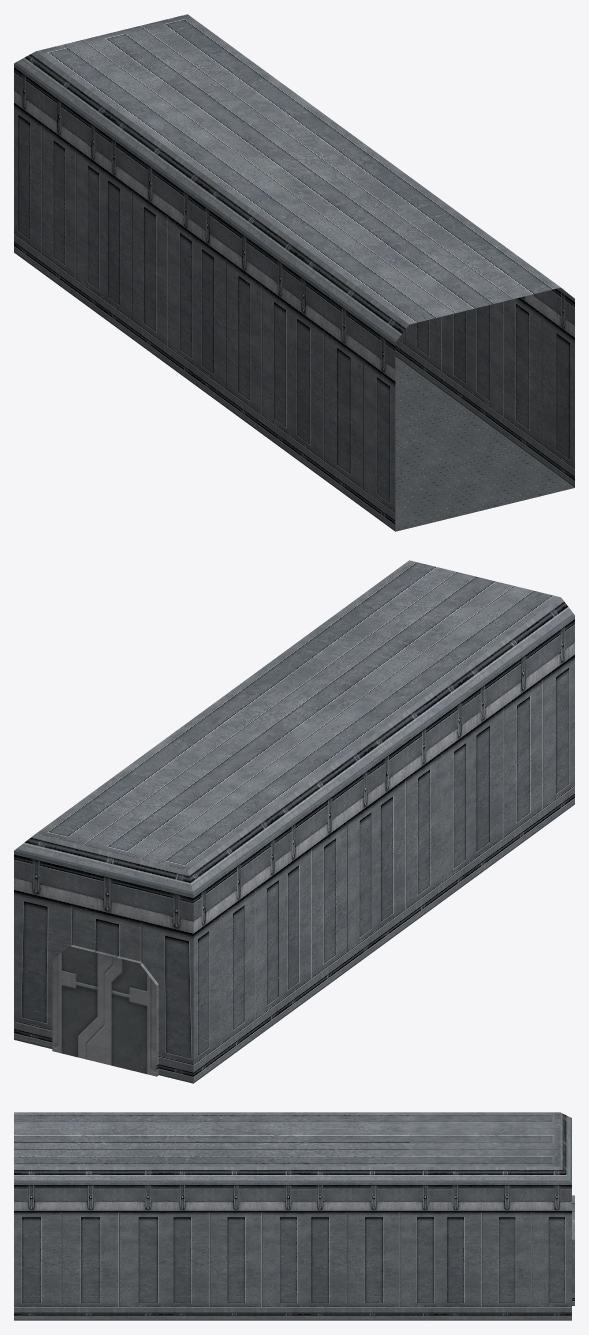
The model's file is thm_nboo_thed_emp_retreat_r22_hall9_mesh_r22.fbx.
The picture shows the model from 3 angles, top to bottom: view 1: azimuth 30°, elevation 25°; view 2: azimuth 150°, elevation 25°; view 3: azimuth 270°, elevation 25°; orthographic projection. The views are drawn at different scales.
Parts seen in each view (by area): view 1: mesh_node; view 2: mesh_node; view 3: mesh_node.
Part boxes in pixels (x1,y1,x2,y2): mesh_node: (14,14,574,531); mesh_node: (14,560,574,1083); mesh_node: (14,1112,574,1320).
Size of the model in its own units: 5.16 by 5.6 by 19.1.
